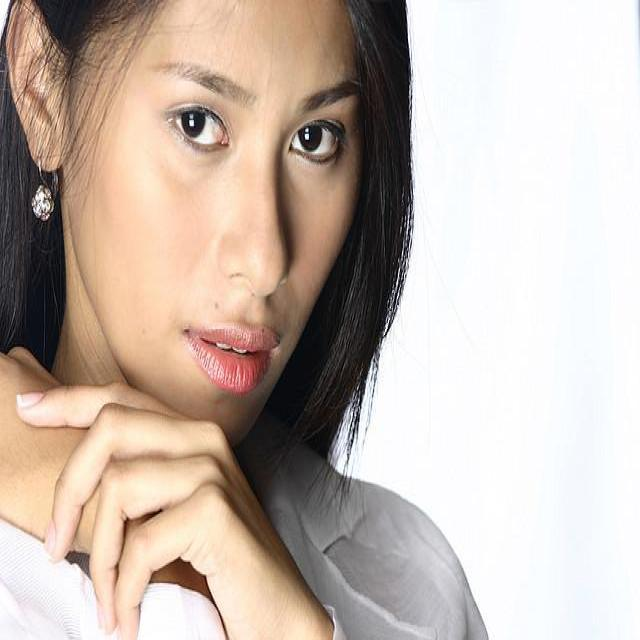no-glass: (160, 99, 348, 170)
